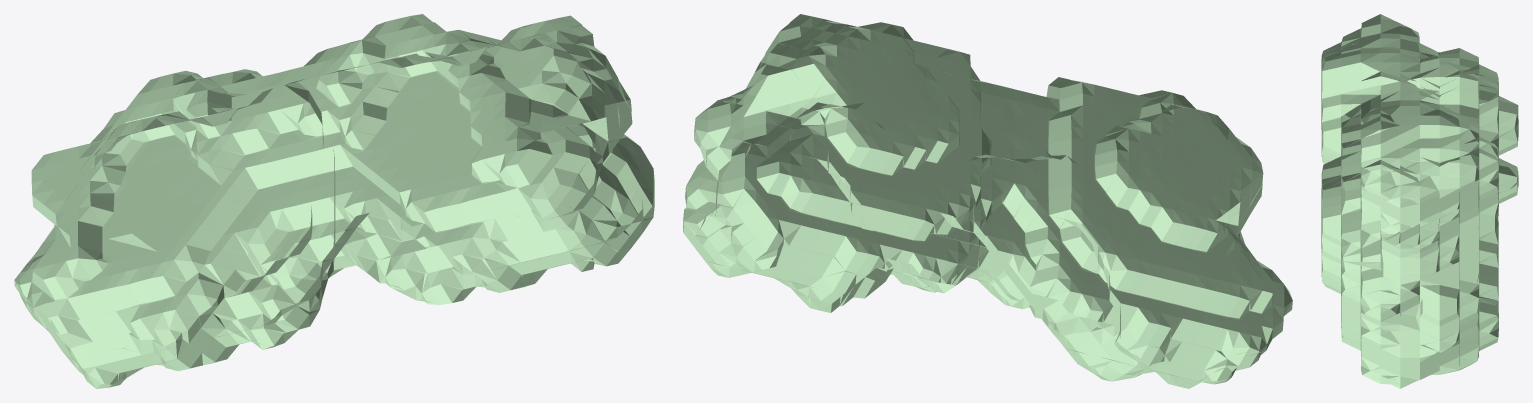
The model's file is VFB_00102185.glb.
3 renders of one model, left to right at view 1: azimuth 30°, elevation 25°; view 2: azimuth 150°, elevation 25°; view 3: azimuth 270°, elevation 25°, orthographic. The views are drawn at different scales.
Parts seen in each view (by area): view 1: VFB_00102185; view 2: VFB_00102185; view 3: VFB_00102185.
Part boxes in pixels (x1,y1,x2,y2): VFB_00102185: (14, 14, 654, 388); VFB_00102185: (683, 14, 1292, 388); VFB_00102185: (1321, 14, 1518, 388).
Size of the model in its own units: 0.1055 by 0.0457 by 0.0392.
